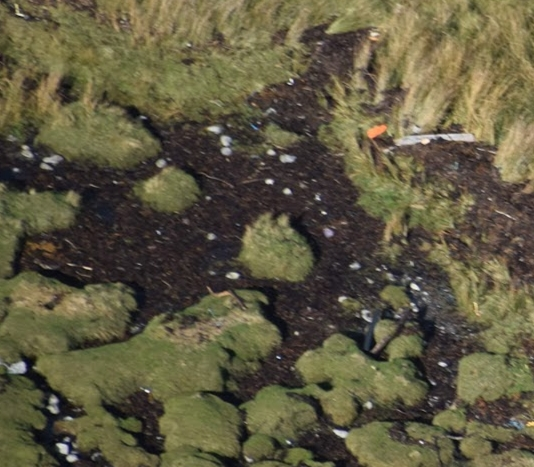straight_bar: (393, 126, 483, 152)
white_in_green: (351, 108, 402, 156)
